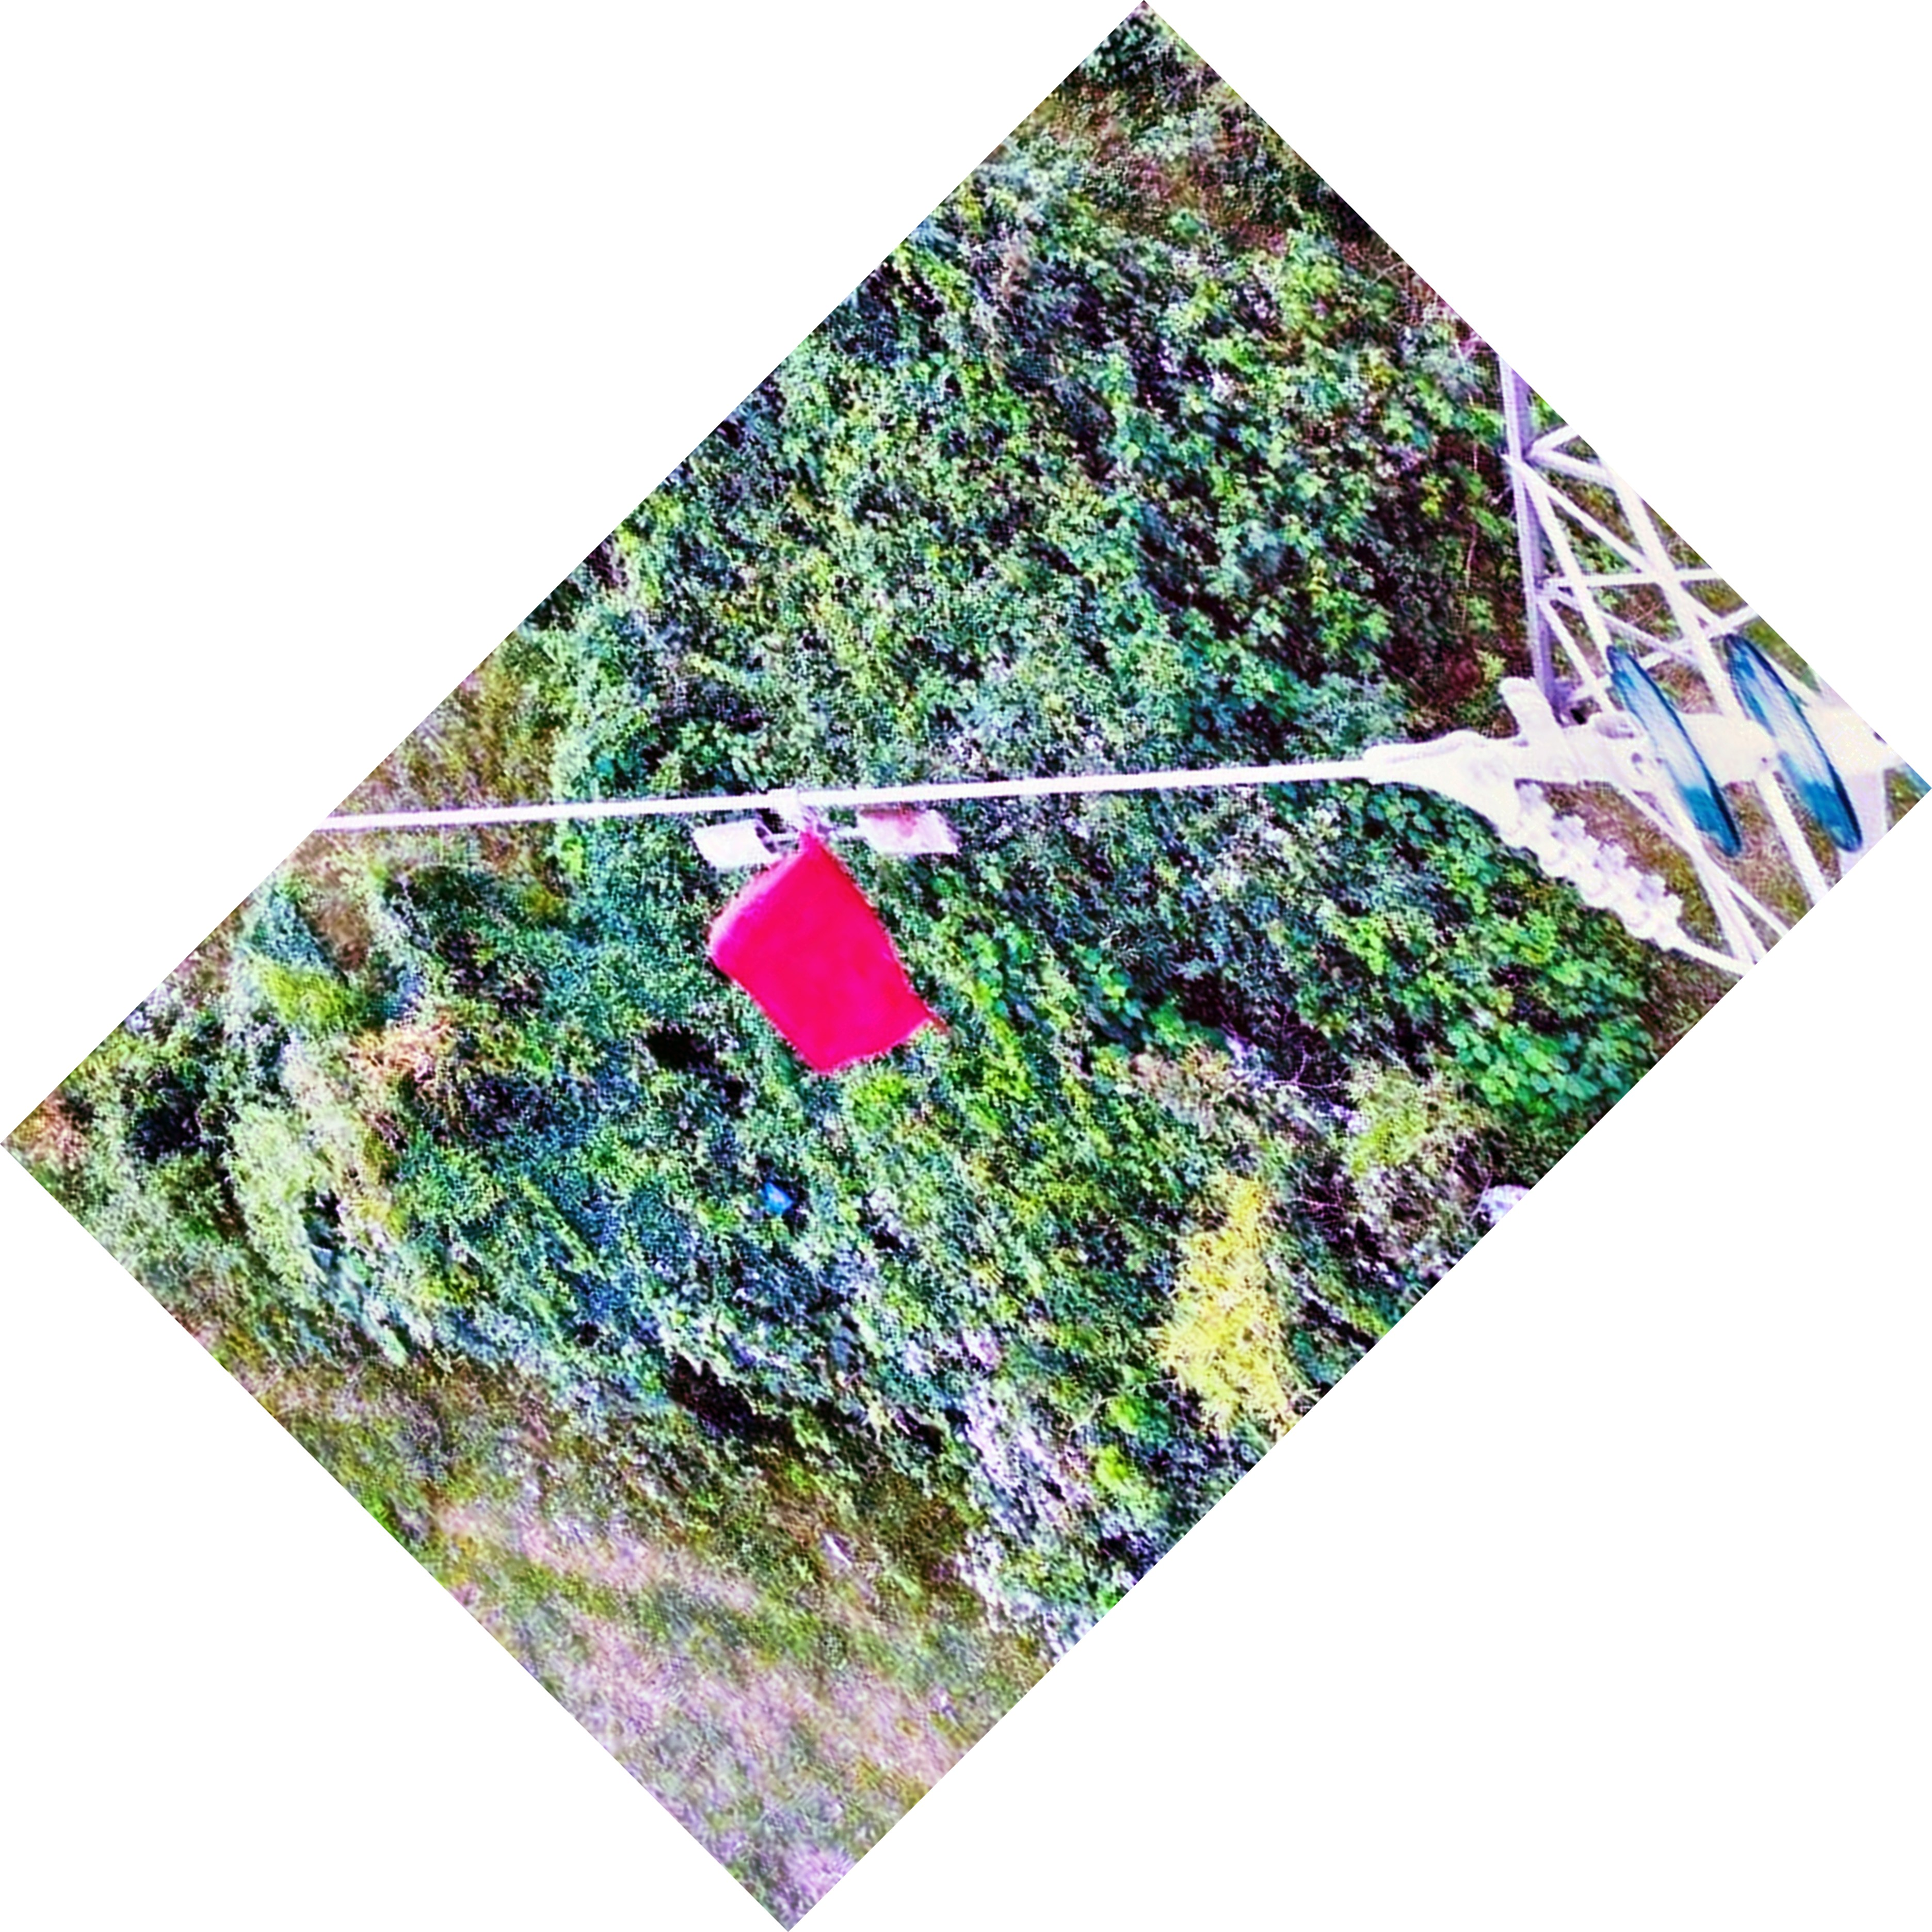wire foreign body: (663, 764, 978, 1085)
